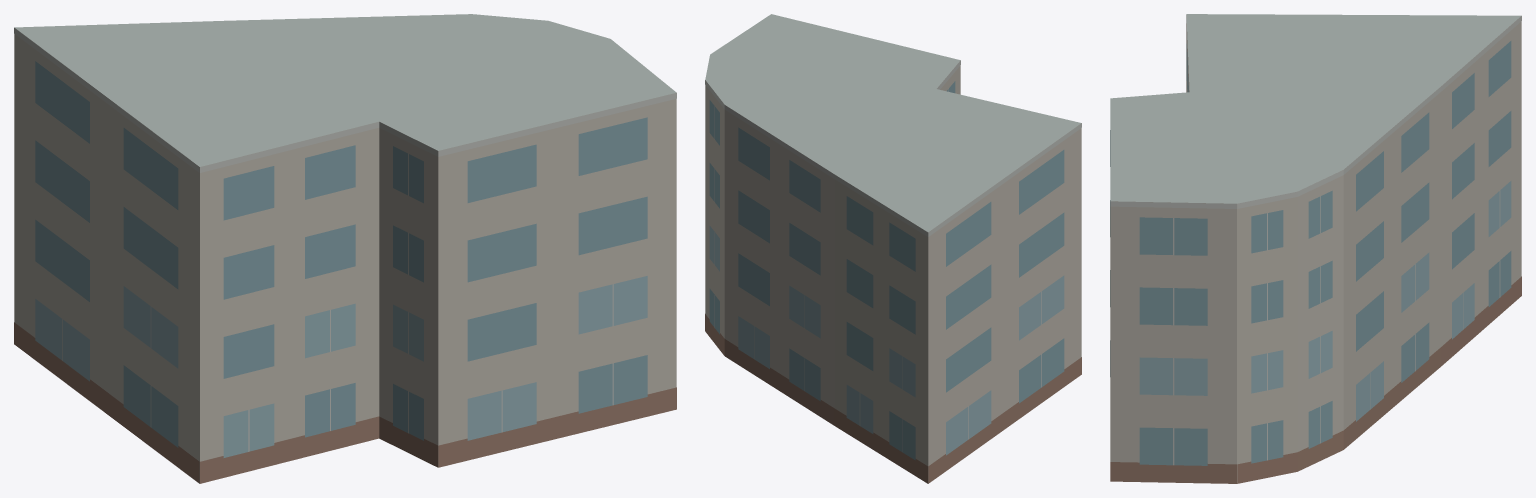
File: survey-upis-32473433.glb
The picture shows the model from 3 angles, left to right: view 1: azimuth 30°, elevation 25°; view 2: azimuth 150°, elevation 25°; view 3: azimuth 270°, elevation 25°; orthographic projection. The views are drawn at different scales.
Parts seen in each view (by area): view 1: survey-upis-32473433.tmp; view 2: survey-upis-32473433.tmp; view 3: survey-upis-32473433.tmp.
Part boxes in pixels (left/top/right/bottom): survey-upis-32473433.tmp: left=14, top=14, right=676, bottom=483; survey-upis-32473433.tmp: left=705, top=14, right=1081, bottom=483; survey-upis-32473433.tmp: left=1110, top=14, right=1521, bottom=483.
Bounding box in the file's own units: 18.6 × 12.8 × 17.05.
